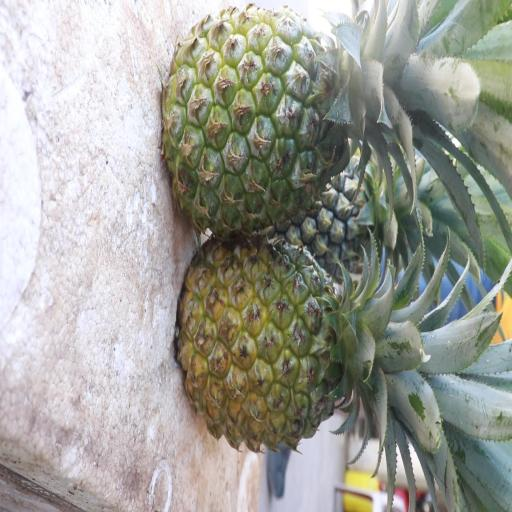------------------------------: (166, 3, 368, 227)
Pineapple - v8 v1: (181, 236, 395, 472)
